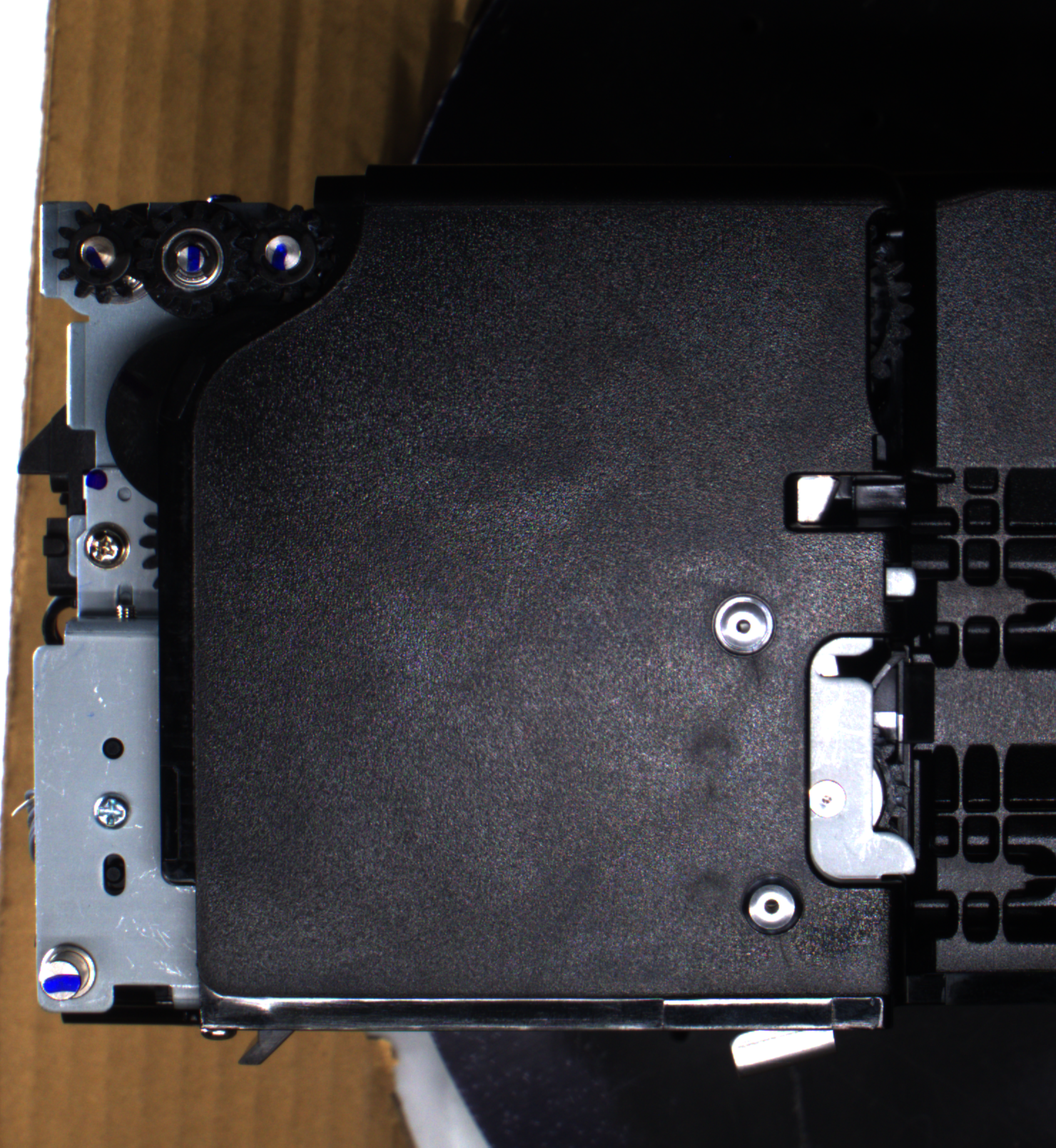centre_pin_presence: (723, 1012, 840, 1078)
centre_plate_presence: (795, 626, 923, 893)
centre_screw_presence: (708, 586, 781, 663), (735, 866, 807, 939)
gear1_presence: (50, 201, 151, 307)
gear2_presence: (135, 199, 249, 318)
gear3_presence: (233, 201, 330, 304)
side_screw_presence: (80, 519, 133, 571), (90, 791, 134, 831)
slanting_pin_presence: (33, 938, 106, 1009)
